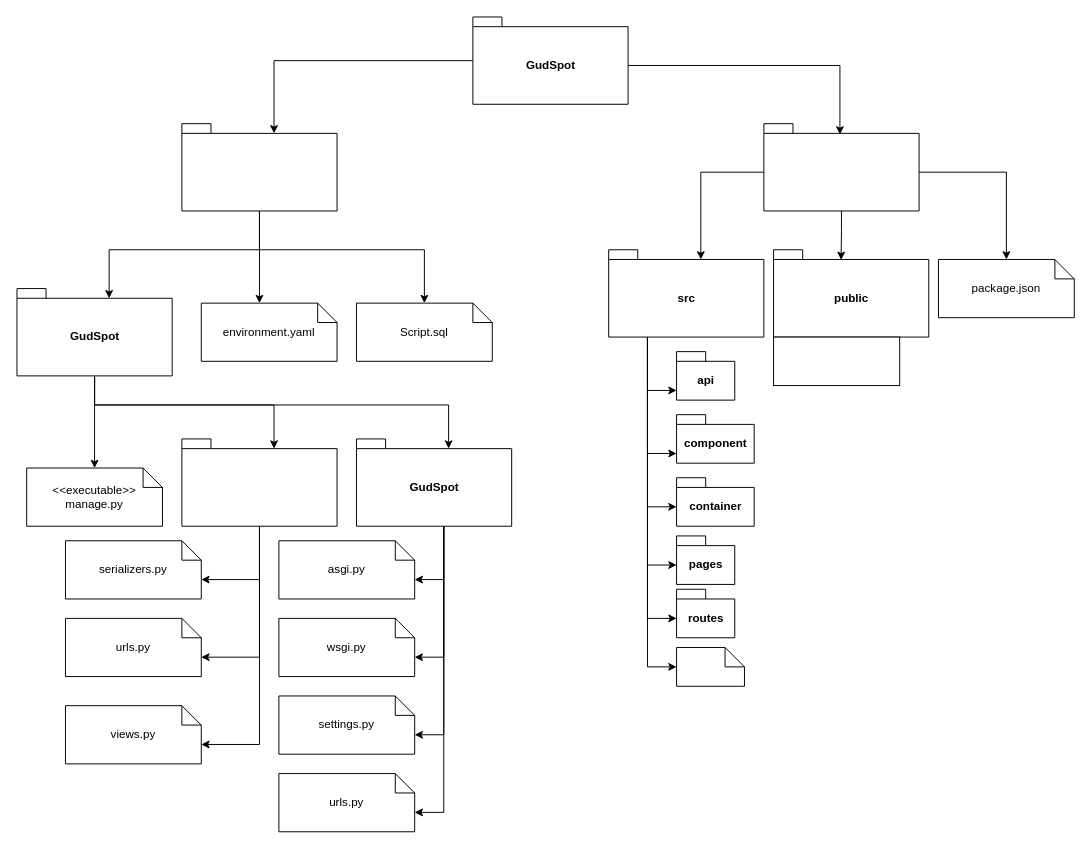
Image size: 1091x849. Some labels were removed from this diagram. Each missing label, with the box of its shape:
app: (181, 438, 337, 526)
App.js: (676, 647, 744, 686)
backend: (181, 123, 337, 211)
frontend: (763, 123, 919, 211)
robot.txt, asset,index: (773, 336, 900, 386)
